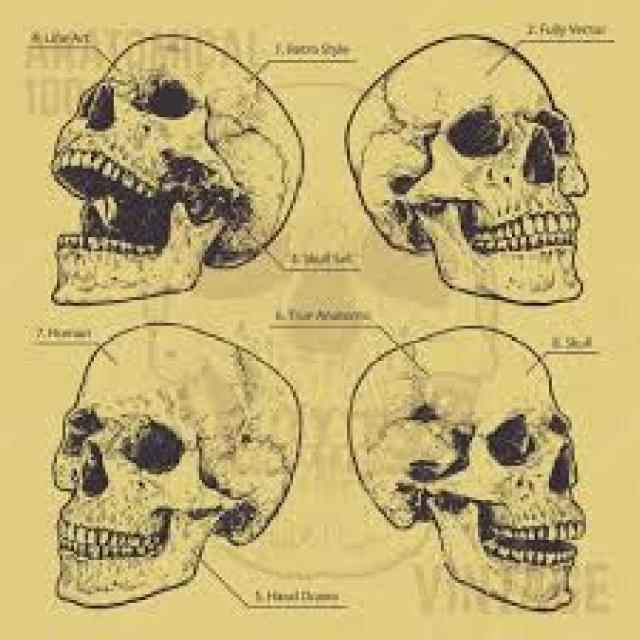skull: (46, 317, 319, 612)
